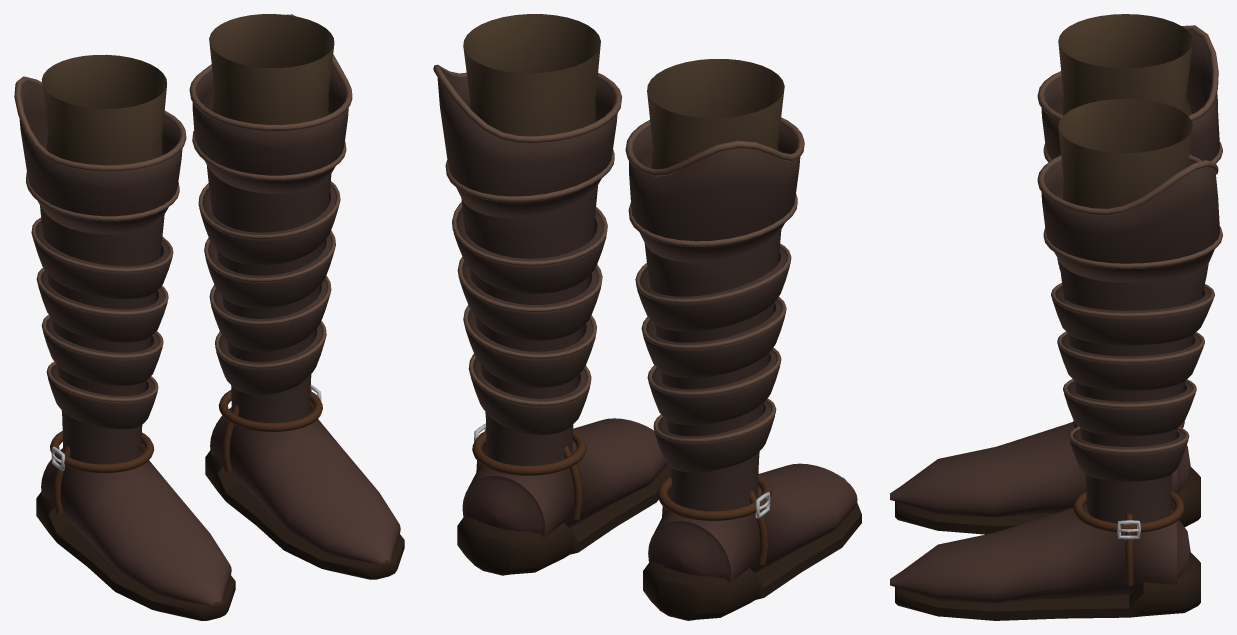
File: f_ranger_f.glb
3 views of the same model, side by side, from view 1: azimuth 30°, elevation 25°; view 2: azimuth 150°, elevation 25°; view 3: azimuth 270°, elevation 25° (orthographic). The views are drawn at different scales.
Parts seen in each view (by area): view 1: LegR_Boot, LegL_Boot, LegL_BootFoot, LegR_BootFoot; view 2: LegL_Boot, LegR_Boot, LegR_BootFoot, LegL_BootFoot; view 3: LegL_Boot, LegL_BootFoot, LegR_Boot, LegR_BootFoot.
Boxes of the visible parts, x1,y1,x2,y2 form: LegR_Boot: [14, 54, 186, 472]; LegL_Boot: [189, 14, 352, 431]; LegL_BootFoot: [205, 402, 404, 579]; LegR_BootFoot: [36, 443, 235, 620]; LegL_Boot: [433, 14, 622, 475]; LegR_Boot: [625, 59, 804, 520]; LegR_BootFoot: [643, 463, 861, 620]; LegL_BootFoot: [457, 418, 671, 575]; LegL_Boot: [1037, 98, 1222, 539]; LegL_BootFoot: [890, 503, 1200, 620]; LegR_Boot: [1037, 14, 1222, 428]; LegR_BootFoot: [890, 422, 1200, 534].
Bounding box in the file's own units: 0.3911 × 0.5538 × 0.352.
